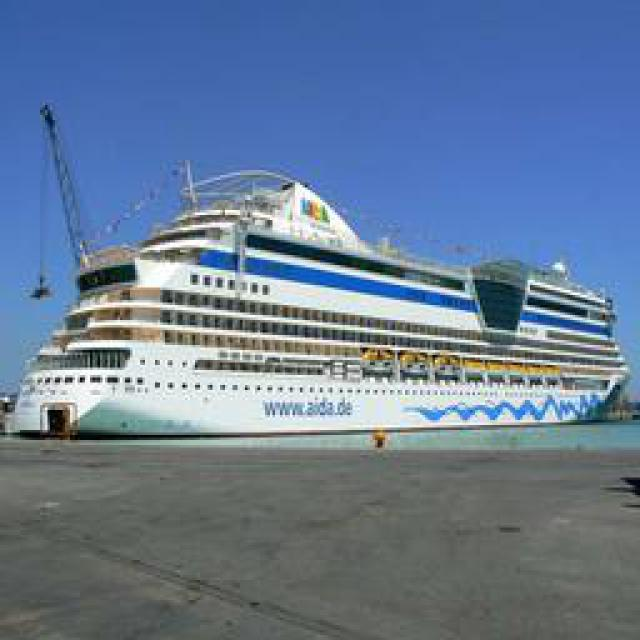Ship: (21, 149, 619, 442)
